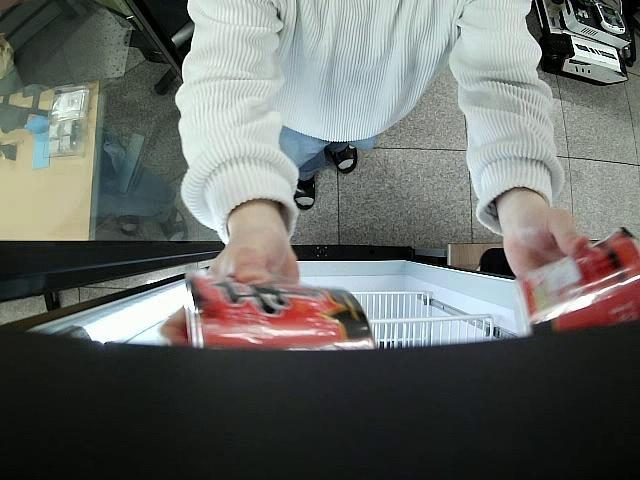01_ShinRamen_L: (185, 268, 376, 352), (522, 225, 640, 334)
